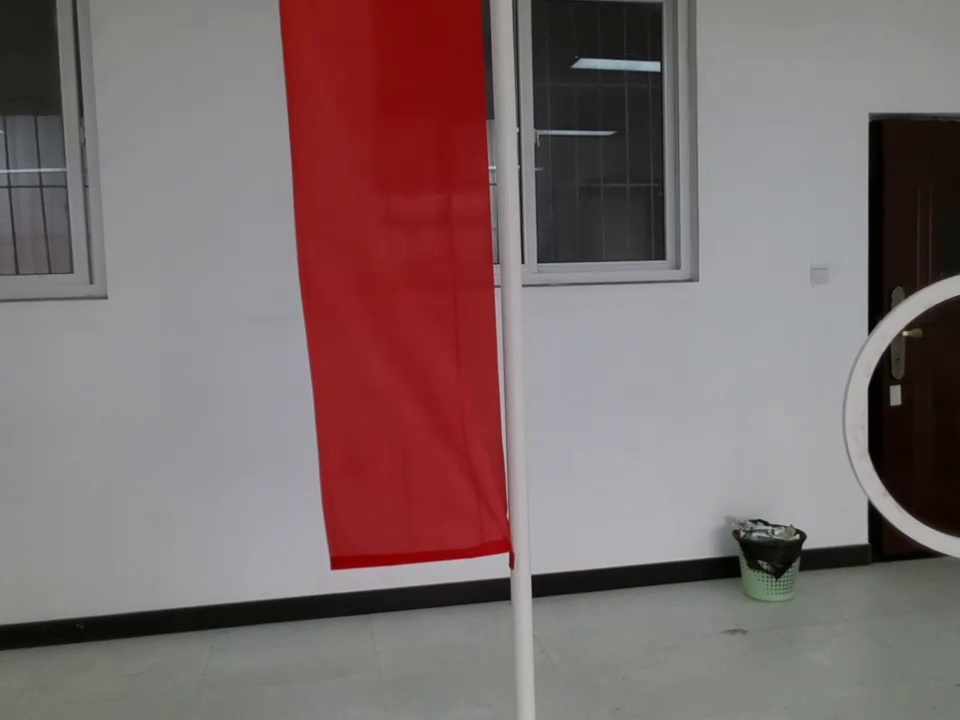qi: (273, 1, 535, 587)
quan: (840, 269, 960, 601)
